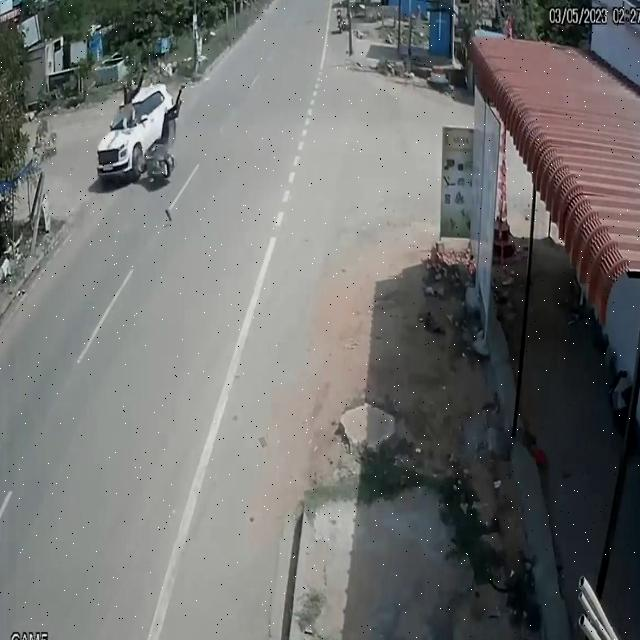accident: (94, 59, 191, 215)
